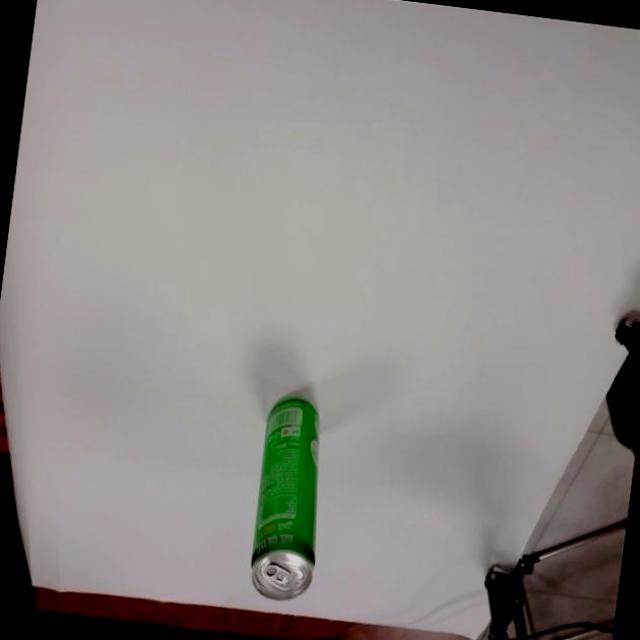debris: (243, 392, 334, 605)
